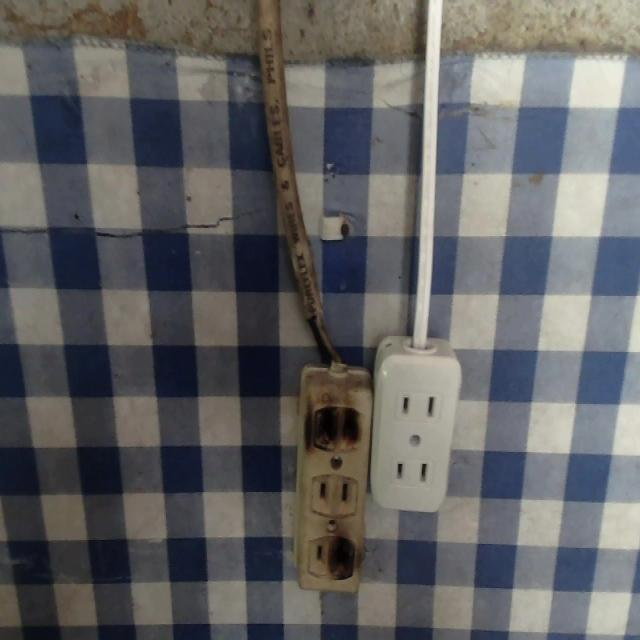-: (307, 399, 368, 453), (324, 532, 356, 583)
